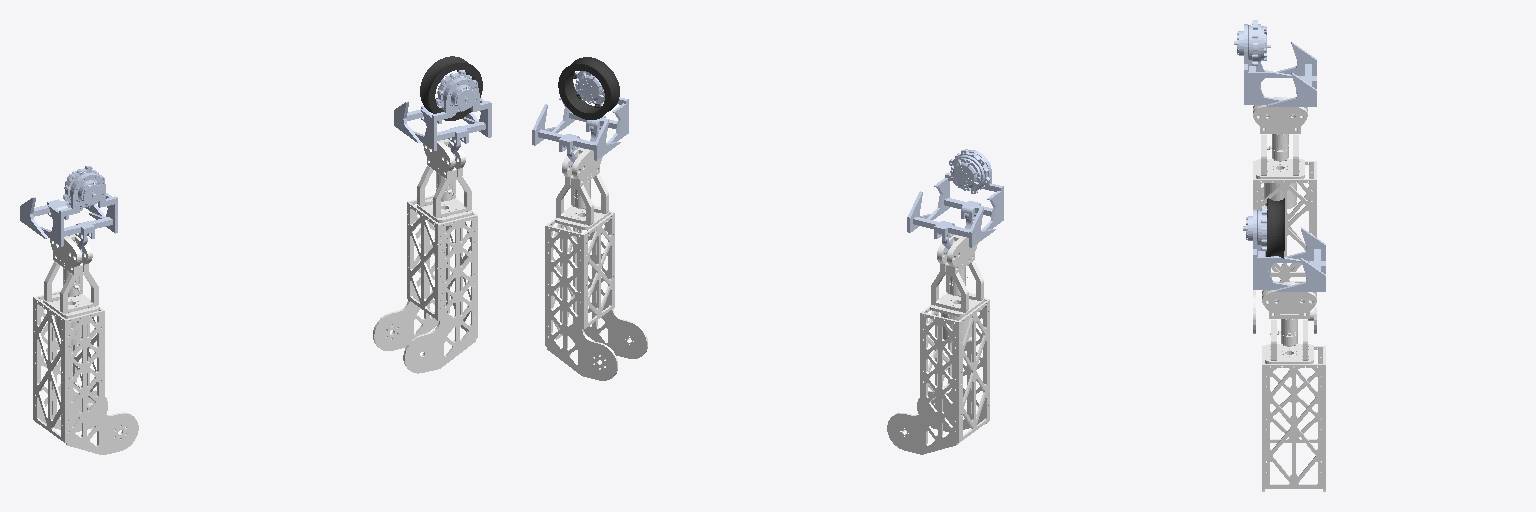
The robot description file, URDF, robot "gp11":
<?xml version='1.0' encoding='utf-8'?>
<robot name="gp11">
  <link name="base">
    <inertial>
      <origin xyz="8.8E-05 -1.9E-05 0.037664" rpy="0 0 0" />
      <mass value="2.429516" />
      <inertia ixx="0.006538" ixy="-0.005903" ixz="-1.4E-05" iyy="0.170381" iyz="4E-06" izz="0.167585" />
    </inertial>
    <visual>
      <origin xyz="0 0 0" rpy="0 0 0" />
      <geometry>
        <mesh filename="package://gp11/meshes/base.STL" />
      </geometry>
      <material name="">
        <color rgba="1 1 1 1" />
      </material>
    </visual>
    <collision>
      <origin xyz="0 0 0" rpy="0 0 0" />
      <geometry>
        <mesh filename="package://gp11/meshes/base.STL" />
      </geometry>
    </collision>
  </link>
  <link name="left_first_leg">
    <inertial>
      <origin xyz="-0.063411 -0.008934 0.141596" rpy="0 0 0" />
      <mass value="0.85685" />
      <inertia ixx="0.024155" ixy="-0.000517" ixz="0.008494" iyy="0.027184" iyz="0.001291" izz="0.005481" />
    </inertial>
    <visual>
      <origin xyz="0 0 0" rpy="0 0 0" />
      <geometry>
        <mesh filename="package://gp11/meshes/left_first_leg.STL" />
      </geometry>
      <material name="">
        <color rgba="1 1 1 1" />
      </material>
    </visual>
    <collision>
      <origin xyz="0 0 0" rpy="0 0 0" />
      <geometry>
        <mesh filename="package://gp11/meshes/left_first_leg.STL" />
      </geometry>
    </collision>
  </link>
  <joint name="left_first_leg_joint" type="continuous">
    <origin xyz="-0.299916107911189 -0.00183492089258142 0.0379999999994639" rpy="0 0 0" />
    <parent link="base" />
    <child link="left_first_leg" />
    <axis xyz="0 1 0" />
    <dynamics damping="1.2" friction="0.08" />
  </joint>
  <link name="left_second_leg">
    <inertial>
      <origin xyz="3.3E-05 -5.6E-05 0.066999" rpy="0 0 0" />
      <mass value="0.55532" />
      <inertia ixx="0.003574" ixy="0" ixz="-1E-06" iyy="0.003456" iyz="2E-06" izz="0.00035" />
    </inertial>
    <visual>
      <origin xyz="0 0 0" rpy="0 0 0" />
      <geometry>
        <mesh filename="package://gp11/meshes/left_second_leg.STL" />
      </geometry>
      <material name="">
        <color rgba="1 1 1 1" />
      </material>
    </visual>
    <collision>
      <origin xyz="0 0 0" rpy="0 0 0" />
      <geometry>
        <mesh filename="package://gp11/meshes/left_second_leg.STL" />
      </geometry>
    </collision>
  </link>
  <joint name="left_second_leg_z" type="continuous">
    <origin xyz="-0.07 -0.01359 0.22765" rpy="0 0 0" />
    <parent link="left_first_leg" />
    <child link="left_second_leg" />
    <axis xyz="0 0 -1" />
    <dynamics damping="1.0" friction="0.06" />
  </joint>
  <link name="l_gripper_left_drive">
    <inertial>
      <origin xyz="-0.0050526 0.01348 -7.0075E-09" rpy="0 0 0" />
      <mass value="0.0064743" />
      <inertia ixx="1.96837E-06" ixy="1.06745E-06" ixz="0" iyy="8.84156E-07" iyz="0" izz="2.74340E-06" />
    </inertial>
    <visual>
      <origin xyz="0 0 0" rpy="0 0 0" />
      <geometry>
        <mesh filename="package://gp11/meshes/l_gripper_left_drive.STL" />
      </geometry>
      <material name="">
        <color rgba="0.79608 0.82353 0.93725 1" />
      </material>
    </visual>
    <collision>
      <origin xyz="0 0 0" rpy="0 0 0" />
      <geometry>
        <mesh filename="package://gp11/meshes/l_gripper_left_drive.STL" />
      </geometry>
    </collision>
  </link>
  <joint name="l_gripper_left_drive_joint" type="prismatic">
    <origin xyz="0.0001 -0.0215 0.1151" rpy="1.5708 0 1.5708" />
    <parent link="left_second_leg" />
    <child link="l_gripper_left_drive" />
    <axis xyz="-1 0 0" />
    <limit lower="-0.015" upper="0.015" effort="50" velocity="0.2" />
    <dynamics damping="150.0" friction="5.0" />
  </joint>
  <link name="l_gripper_left_up">
    <inertial>
      <origin xyz="-0.005091 0.065621 -7.5E-05" rpy="0 0 0" />
      <mass value="0.519091" />
      <inertia ixx="0.003042" ixy="0.000201" ixz="0" iyy="0.000375" iyz="2E-06" izz="0.002807" />
    </inertial>
    <visual>
      <origin xyz="0 0 0" rpy="0 0 0" />
      <geometry>
        <mesh filename="package://gp11/meshes/l_gripper_left_up.STL" />
      </geometry>
      <material name="">
        <color rgba="0.86667 0.9098 1 1" />
      </material>
    </visual>
    <collision>
      <origin xyz="0 0 0" rpy="0 0 0" />
      <geometry>
        <mesh filename="package://gp11/meshes/l_gripper_left_up.STL" />
      </geometry>
    </collision>
  </link>
  <joint name="l_gripper_left_up_joint" type="fixed">
    <origin xyz="-0.018152 0.046589 0" rpy="0 0 0" />
    <parent link="l_gripper_left_drive" />
    <child link="l_gripper_left_up" />
  </joint>
  <link name="left_friction_whell">
    <inertial>
      <origin xyz="5.8564E-15 -0.00061383 2.8866E-15" rpy="0 0 0" />
      <mass value="0.084511" />
      <inertia ixx="9.2E-05" ixy="9.0826E-19" ixz="0" iyy="0.000169" iyz="0" izz="9.2E-05" />
    </inertial>
    <visual>
      <origin xyz="0 0 0" rpy="0 0 0" />
      <geometry>
        <mesh filename="package://gp11/meshes/left_friction_whell.STL" />
      </geometry>
      <material name="">
        <color rgba="0.29804 0.29804 0.29804 1" />
      </material>
    </visual>
    <collision>
      <origin xyz="0 0 0" rpy="0 0 0" />
      <geometry>
        <mesh filename="package://gp11/meshes/left_friction_whell.STL" />
      </geometry>
    </collision>
  </link>
  <joint name="left_friction_whell_joint" type="continuous">
    <origin xyz="0.01695 0.082384 -0.0001" rpy="1.4121 -1.5708 -2.9801" />
    <parent link="l_gripper_left_up" />
    <child link="left_friction_whell" />
    <axis xyz="0 1 0" />
  </joint>
  <link name="l_gripper_right_drive">
    <inertial>
      <origin xyz="0.0050526 0.01348 6.9946E-09" rpy="0 0 0" />
      <mass value="0.0064743" />
      <inertia ixx="1.96837E-06" ixy="-1.06745E-06" ixz="0" iyy="8.84156E-07" iyz="0" izz="2.74340E-06" />
    </inertial>
    <visual>
      <origin xyz="0 0 0" rpy="0 0 0" />
      <geometry>
        <mesh filename="package://gp11/meshes/l_gripper_right_drive.STL" />
      </geometry>
      <material name="">
        <color rgba="0.79608 0.82353 0.93725 1" />
      </material>
    </visual>
    <collision>
      <origin xyz="0 0 0" rpy="0 0 0" />
      <geometry>
        <mesh filename="package://gp11/meshes/l_gripper_right_drive.STL" />
      </geometry>
    </collision>
  </link>
  <joint name="l_gripper_right_drive_joint" type="fixed">
    <origin xyz="0.0001 0.0215 0.1151" rpy="1.5708 0 1.5708" />
    <parent link="left_second_leg" />
    <child link="l_gripper_right_drive" />
  </joint>
  <link name="l_gripper_right_up">
    <inertial>
      <origin xyz="0.00052003 0.011886 -0.0001" rpy="0 0 0" />
      <mass value="0.12712" />
      <inertia ixx="0.000321" ixy="-3E-06" ixz="0" iyy="0.000313" iyz="0" izz="6.3E-05" />
    </inertial>
    <visual>
      <origin xyz="0 0 0" rpy="0 0 0" />
      <geometry>
        <mesh filename="package://gp11/meshes/l_gripper_right_up.STL" />
      </geometry>
      <material name="">
        <color rgba="0.86667 0.9098 1 1" />
      </material>
    </visual>
    <collision>
      <origin xyz="0 0 0" rpy="0 0 0" />
      <geometry>
        <mesh filename="package://gp11/meshes/l_gripper_right_up.STL" />
      </geometry>
    </collision>
  </link>
  <joint name="l_gripper_right_up_joint" type="prismatic">
    <origin xyz="0.018152 0.046589 0" rpy="0 0 0" />
    <parent link="l_gripper_right_drive" />
    <child link="l_gripper_right_up" />
    <axis xyz="-1 0 0" />
    <limit lower="-0.015" upper="0.015" effort="50" velocity="0.2" />
    <dynamics damping="150.0" friction="5.0" />
  </joint>
  <link name="left_gripper_tool" />
  <joint name="left_gripper_tool_joint" type="fixed">
    <origin xyz="0.0001 0 0.1151" rpy="1.5708 0 1.5708" />
    <parent link="left_second_leg" />
    <child link="left_gripper_tool" />
  </joint>
  <link name="right_first_leg">
    <inertial>
      <origin xyz="0.058923 0.005837 0.094762" rpy="0 0 0" />
      <mass value="0.484529" />
      <inertia ixx="0.008497" ixy="-0.000168" ixz="-0.003215" iyy="0.009795" iyz="-0.000271" izz="0.003452" />
    </inertial>
    <visual>
      <origin xyz="0 0 0" rpy="0 0 0" />
      <geometry>
        <mesh filename="package://gp11/meshes/right_first_leg.STL" />
      </geometry>
      <material name="">
        <color rgba="1 1 1 1" />
      </material>
    </visual>
    <collision>
      <origin xyz="0 0 0" rpy="0 0 0" />
      <geometry>
        <mesh filename="package://gp11/meshes/right_first_leg.STL" />
      </geometry>
    </collision>
  </link>
  <joint name="right_first_leg_joint" type="continuous">
    <origin xyz="0.30008 0.0018349 0.038" rpy="0 0 0" />
    <parent link="base" />
    <child link="right_first_leg" />
    <axis xyz="0 1 0" />
    <dynamics damping="1.2" friction="0.08" />
  </joint>
  <link name="right_second_leg">
    <inertial>
      <origin xyz="3.3E-05 -5.6E-05 0.066999" rpy="0 0 0" />
      <mass value="0.55532" />
      <inertia ixx="0.003574" ixy="0" ixz="-1E-06" iyy="0.003456" iyz="2E-06" izz="0.00035" />
    </inertial>
    <visual>
      <origin xyz="0 0 0" rpy="0 0 0" />
      <geometry>
        <mesh filename="package://gp11/meshes/right_second_leg.STL" />
      </geometry>
      <material name="">
        <color rgba="1 1 1 1" />
      </material>
    </visual>
    <collision>
      <origin xyz="0 0 0" rpy="0 0 0" />
      <geometry>
        <mesh filename="package://gp11/meshes/right_second_leg.STL" />
      </geometry>
    </collision>
  </link>
  <joint name="right_second_leg_joint" type="continuous">
    <origin xyz="0.07 -0.0018099 0.22765" rpy="0 0 0" />
    <parent link="right_first_leg" />
    <child link="right_second_leg" />
    <axis xyz="0 0 -1" />
    <dynamics damping="1.0" friction="0.06" />
  </joint>
  <link name="r_gripper_left_drive">
    <inertial>
      <origin xyz="-0.0050526 0.01348 -7.0069E-09" rpy="0 0 0" />
      <mass value="0.0064743" />
      <inertia ixx="1.96837E-06" ixy="1.06745E-06" ixz="0" iyy="8.84156E-07" iyz="0" izz="2.74340E-06" />
    </inertial>
    <visual>
      <origin xyz="0 0 0" rpy="0 0 0" />
      <geometry>
        <mesh filename="package://gp11/meshes/r_gripper_left_drive.STL" />
      </geometry>
      <material name="">
        <color rgba="0.79608 0.82353 0.93725 1" />
      </material>
    </visual>
    <collision>
      <origin xyz="0 0 0" rpy="0 0 0" />
      <geometry>
        <mesh filename="package://gp11/meshes/r_gripper_left_drive.STL" />
      </geometry>
    </collision>
  </link>
  <joint name="r_gripper_left_drive_joint" type="prismatic">
    <origin xyz="0.0001 -0.0215 0.1151" rpy="1.5708 0 1.5708" />
    <parent link="right_second_leg" />
    <child link="r_gripper_left_drive" />
    <axis xyz="-1 0 0" />
    <limit lower="-0.015" upper="0.015" effort="50" velocity="0.2" />
    <dynamics damping="150.0" friction="5.0" />
  </joint>
  <link name="r_gripper_left_uprod">
    <inertial>
      <origin xyz="-0.005091 0.065621 -7.5E-05" rpy="0 0 0" />
      <mass value="0.519091" />
      <inertia ixx="0.003042" ixy="0.000201" ixz="0" iyy="0.000375" iyz="2E-06" izz="0.002807" />
    </inertial>
    <visual>
      <origin xyz="0 0 0" rpy="0 0 0" />
      <geometry>
        <mesh filename="package://gp11/meshes/r_gripper_left_uprod.STL" />
      </geometry>
      <material name="">
        <color rgba="0.86667 0.9098 1 1" />
      </material>
    </visual>
    <collision>
      <origin xyz="0 0 0" rpy="0 0 0" />
      <geometry>
        <mesh filename="package://gp11/meshes/r_gripper_left_uprod.STL" />
      </geometry>
    </collision>
  </link>
  <joint name="r_gripper_left_uprod_joint" type="fixed">
    <origin xyz="-0.018152 0.046589 0" rpy="0 0 0" />
    <parent link="r_gripper_left_drive" />
    <child link="r_gripper_left_uprod" />
  </joint>
  <link name="right_friction_wheel">
    <inertial>
      <origin xyz="-2.2204E-16 -0.00061383 -1.1102E-15" rpy="0 0 0" />
      <mass value="0.084511" />
      <inertia ixx="9.2232E-05" ixy="-1.2193E-19" ixz="-3.0493E-20" iyy="0.00016859" iyz="1.0872E-18" izz="9.2232E-05" />
    </inertial>
    <visual>
      <origin xyz="0 0 0" rpy="0 0 0" />
      <geometry>
        <mesh filename="package://gp11/meshes/right_friction_wheel.STL" />
      </geometry>
      <material name="">
        <color rgba="0.29804 0.29804 0.29804 1" />
      </material>
    </visual>
    <collision>
      <origin xyz="0 0 0" rpy="0 0 0" />
      <geometry>
        <mesh filename="package://gp11/meshes/right_friction_wheel.STL" />
      </geometry>
    </collision>
  </link>
  <joint name="right_friction_wheel_joint" type="continuous">
    <origin xyz="0.01695 0.082384 -0.0001" rpy="2.6586 -1.5708 2.0307" />
    <parent link="r_gripper_left_uprod" />
    <child link="right_friction_wheel" />
    <axis xyz="0 1 0" />
  </joint>
  <link name="r_gripper_right_drive">
    <inertial>
      <origin xyz="0.0050526 0.01348 6.9946E-09" rpy="0 0 0" />
      <mass value="0.0064743" />
      <inertia ixx="1.96837E-06" ixy="-1.06745E-06" ixz="0" iyy="8.84156E-07" iyz="0" izz="2.74340E-06" />
    </inertial>
    <visual>
      <origin xyz="0 0 0" rpy="0 0 0" />
      <geometry>
        <mesh filename="package://gp11/meshes/r_gripper_right_drive.STL" />
      </geometry>
      <material name="">
        <color rgba="0.79608 0.82353 0.93725 1" />
      </material>
    </visual>
    <collision>
      <origin xyz="0 0 0" rpy="0 0 0" />
      <geometry>
        <mesh filename="package://gp11/meshes/r_gripper_right_drive.STL" />
      </geometry>
    </collision>
  </link>
  <joint name="r_gripper_right_drive_joint" type="fixed">
    <origin xyz="0.0001 0.0215 0.1151" rpy="1.5708 0 1.5708" />
    <parent link="right_second_leg" />
    <child link="r_gripper_right_drive" />
  </joint>
  <link name="r_gripper_right_uprod">
    <inertial>
      <origin xyz="0.00052003 0.011886 -0.0001" rpy="0 0 0" />
      <mass value="0.12712" />
      <inertia ixx="0.000321" ixy="-3E-06" ixz="0" iyy="0.00031321" iyz="0" izz="6.3E-05" />
    </inertial>
    <visual>
      <origin xyz="0 0 0" rpy="0 0 0" />
      <geometry>
        <mesh filename="package://gp11/meshes/r_gripper_right_uprod.STL" />
      </geometry>
      <material name="">
        <color rgba="0.86667 0.9098 1 1" />
      </material>
    </visual>
    <collision>
      <origin xyz="0 0 0" rpy="0 0 0" />
      <geometry>
        <mesh filename="package://gp11/meshes/r_gripper_right_uprod.STL" />
      </geometry>
    </collision>
  </link>
  <joint name="r_gripper_right_uprod_joint" type="prismatic">
    <origin xyz="0.018152 0.046589 0" rpy="0 0 0" />
    <parent link="r_gripper_right_drive" />
    <child link="r_gripper_right_uprod" />
    <axis xyz="-1 0 0" />
    <limit lower="-0.015" upper="0.015" effort="50" velocity="0.2" />
    <dynamics damping="150.0" friction="5.0" />
  </joint>
  <link name="right_gripper_tool" />
  <joint name="right_gripper_tool_joint" type="fixed">
    <origin xyz="0.0001 0 0.1151" rpy="1.5708 0 1.5708" />
    <parent link="right_second_leg" />
    <child link="right_gripper_tool" />
  </joint>
</robot>

--- What the picture shows (computed from the rendered views, not written in the file) ---
3 views of the same robot in one strip: view 1: azimuth 30°, elevation 25°; view 2: azimuth 150°, elevation 25°; view 3: azimuth 270°, elevation 25° (orthographic).
Model gp11 with 17 links and 16 joints (6 continuous, 4 prismatic, 6 fixed), rooted at base, posed every joint at zero.
Links seen in each view (by area): view 1: right_first_leg, left_first_leg, r_gripper_left_uprod, l_gripper_left_up, left_second_leg, right_second_leg, right_friction_wheel, l_gripper_right_up, r_gripper_right_uprod; view 2: right_first_leg, left_first_leg, l_gripper_left_up, left_second_leg, right_second_leg, right_friction_wheel, r_gripper_left_uprod, l_gripper_right_up, r_gripper_right_uprod; view 3: right_first_leg, left_first_leg, left_second_leg, right_second_leg, l_gripper_left_up, r_gripper_left_uprod, l_gripper_right_up, r_gripper_right_uprod, right_friction_wheel.
Boxes of the visible links, x1,y1,x2,y2 form: right_first_leg: [373, 195, 477, 373]; left_first_leg: [33, 291, 138, 454]; r_gripper_left_uprod: [413, 70, 491, 150]; l_gripper_left_up: [40, 166, 117, 246]; left_second_leg: [43, 234, 99, 317]; right_second_leg: [417, 139, 472, 222]; right_friction_wheel: [420, 56, 482, 120]; l_gripper_right_up: [20, 197, 105, 238]; r_gripper_right_uprod: [394, 101, 478, 142]; right_first_leg: [545, 211, 647, 380]; left_first_leg: [887, 298, 989, 454]; l_gripper_left_up: [927, 149, 1003, 230]; left_second_leg: [930, 235, 984, 316]; right_second_leg: [555, 147, 609, 229]; right_friction_wheel: [558, 57, 619, 119]; r_gripper_left_uprod: [552, 71, 628, 143]; l_gripper_right_up: [907, 191, 995, 247]; r_gripper_right_uprod: [532, 104, 620, 160]; right_first_leg: [1262, 346, 1325, 491]; left_first_leg: [1253, 161, 1316, 333]; left_second_leg: [1253, 97, 1307, 178]; right_second_leg: [1262, 282, 1316, 363]; l_gripper_left_up: [1234, 20, 1291, 104]; r_gripper_left_uprod: [1243, 206, 1300, 289]; l_gripper_right_up: [1267, 42, 1316, 106]; r_gripper_right_uprod: [1277, 227, 1325, 291]; right_friction_wheel: [1266, 198, 1284, 258].
Bounding box of the posed robot: 0.868 × 0.1566 × 0.5601 m (x, y, z).
13 mesh visuals loaded from 15 distinct referenced files (13 binary STL); not drawn: 2 (reference not matched to a file when rendering).
